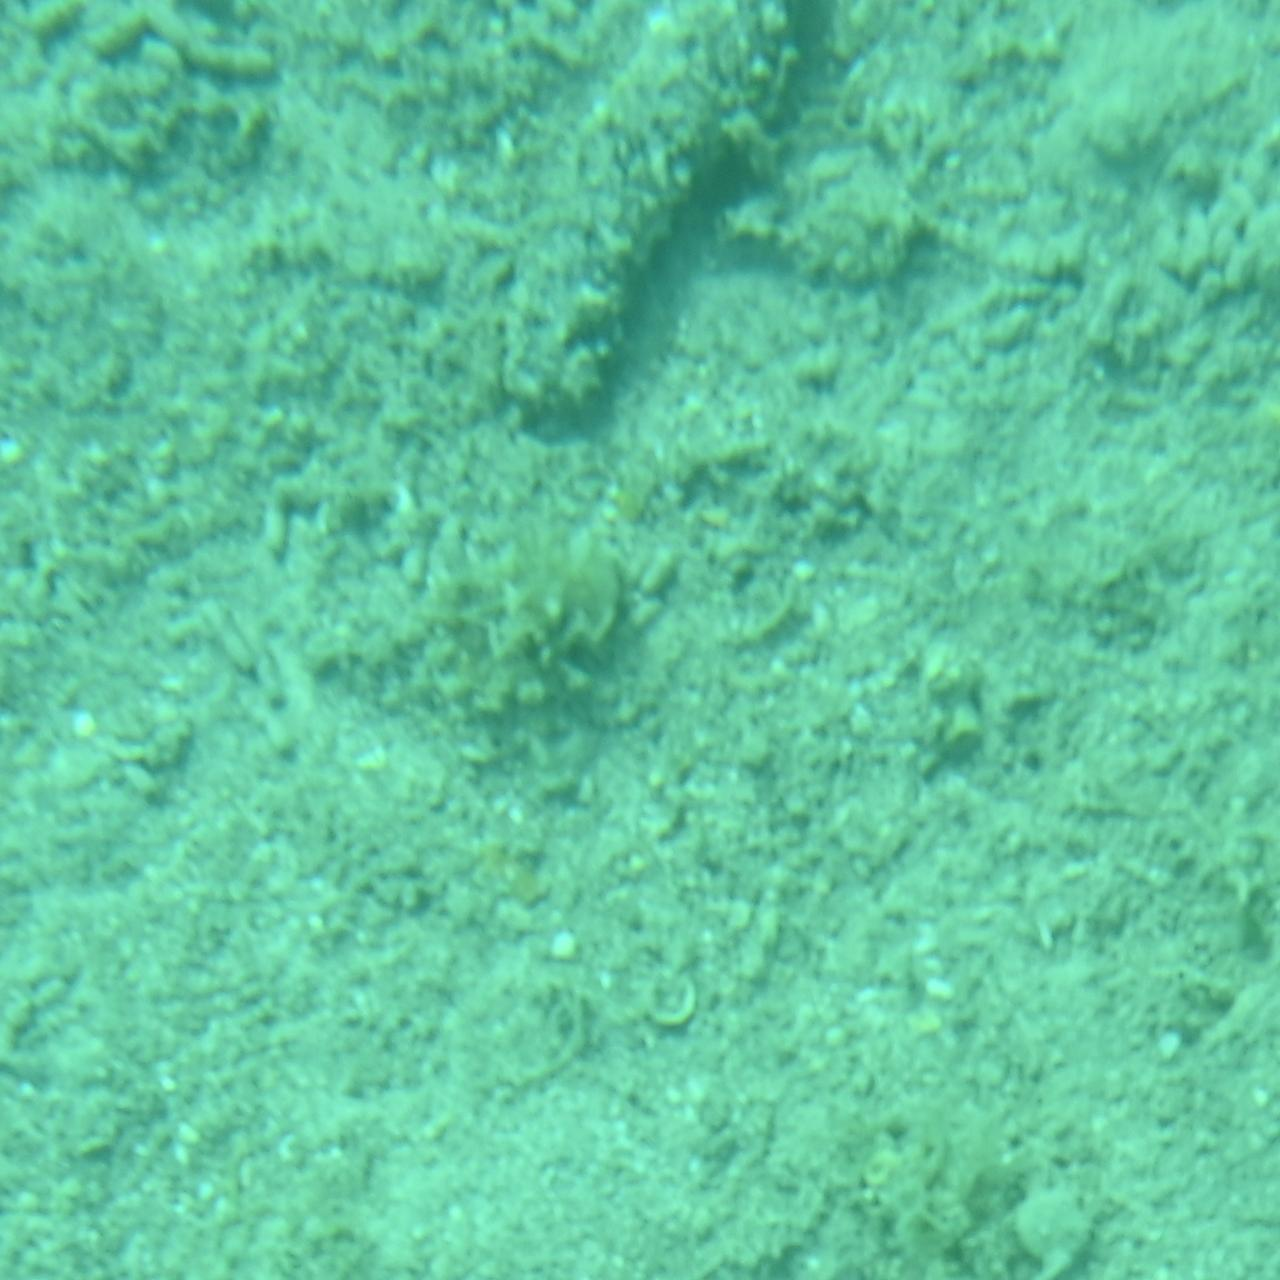Holothuria tubulosa: (454, 0, 826, 446)
